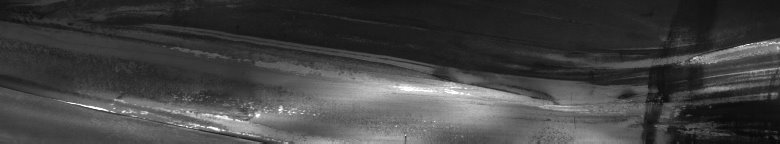ke: (4, 4, 652, 136)
